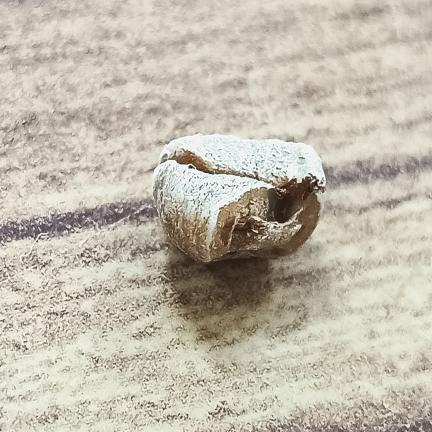cut: (153, 134, 326, 262)
